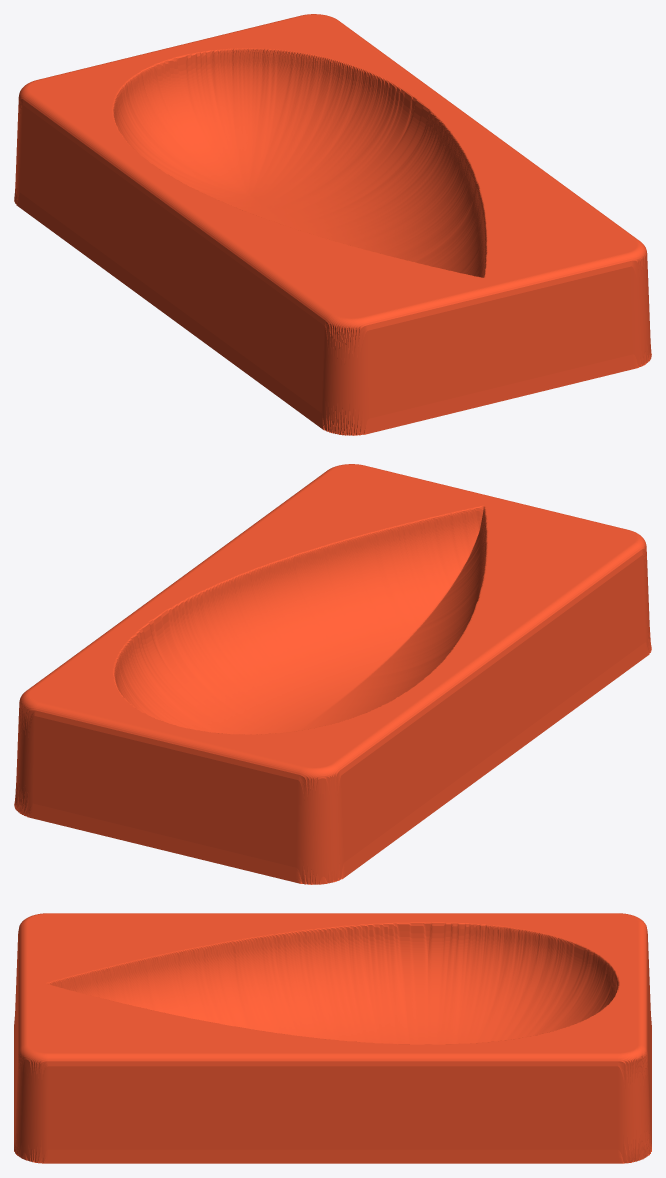
The model's file is mold.glb.
3 views of the same model, one above another, from view 1: azimuth 30°, elevation 25°; view 2: azimuth 150°, elevation 25°; view 3: azimuth 270°, elevation 25° (orthographic). The views are drawn at different scales.
Visible parts, largest first — view 1: geometry_0; view 2: geometry_0; view 3: geometry_0.
Part boxes in pixels (x1,y1,x2,y2): geometry_0: (14, 14, 651, 435); geometry_0: (14, 464, 651, 884); geometry_0: (14, 913, 651, 1163).
Size of the model in its own units: 0.0953 by 0.031 by 0.1709.
